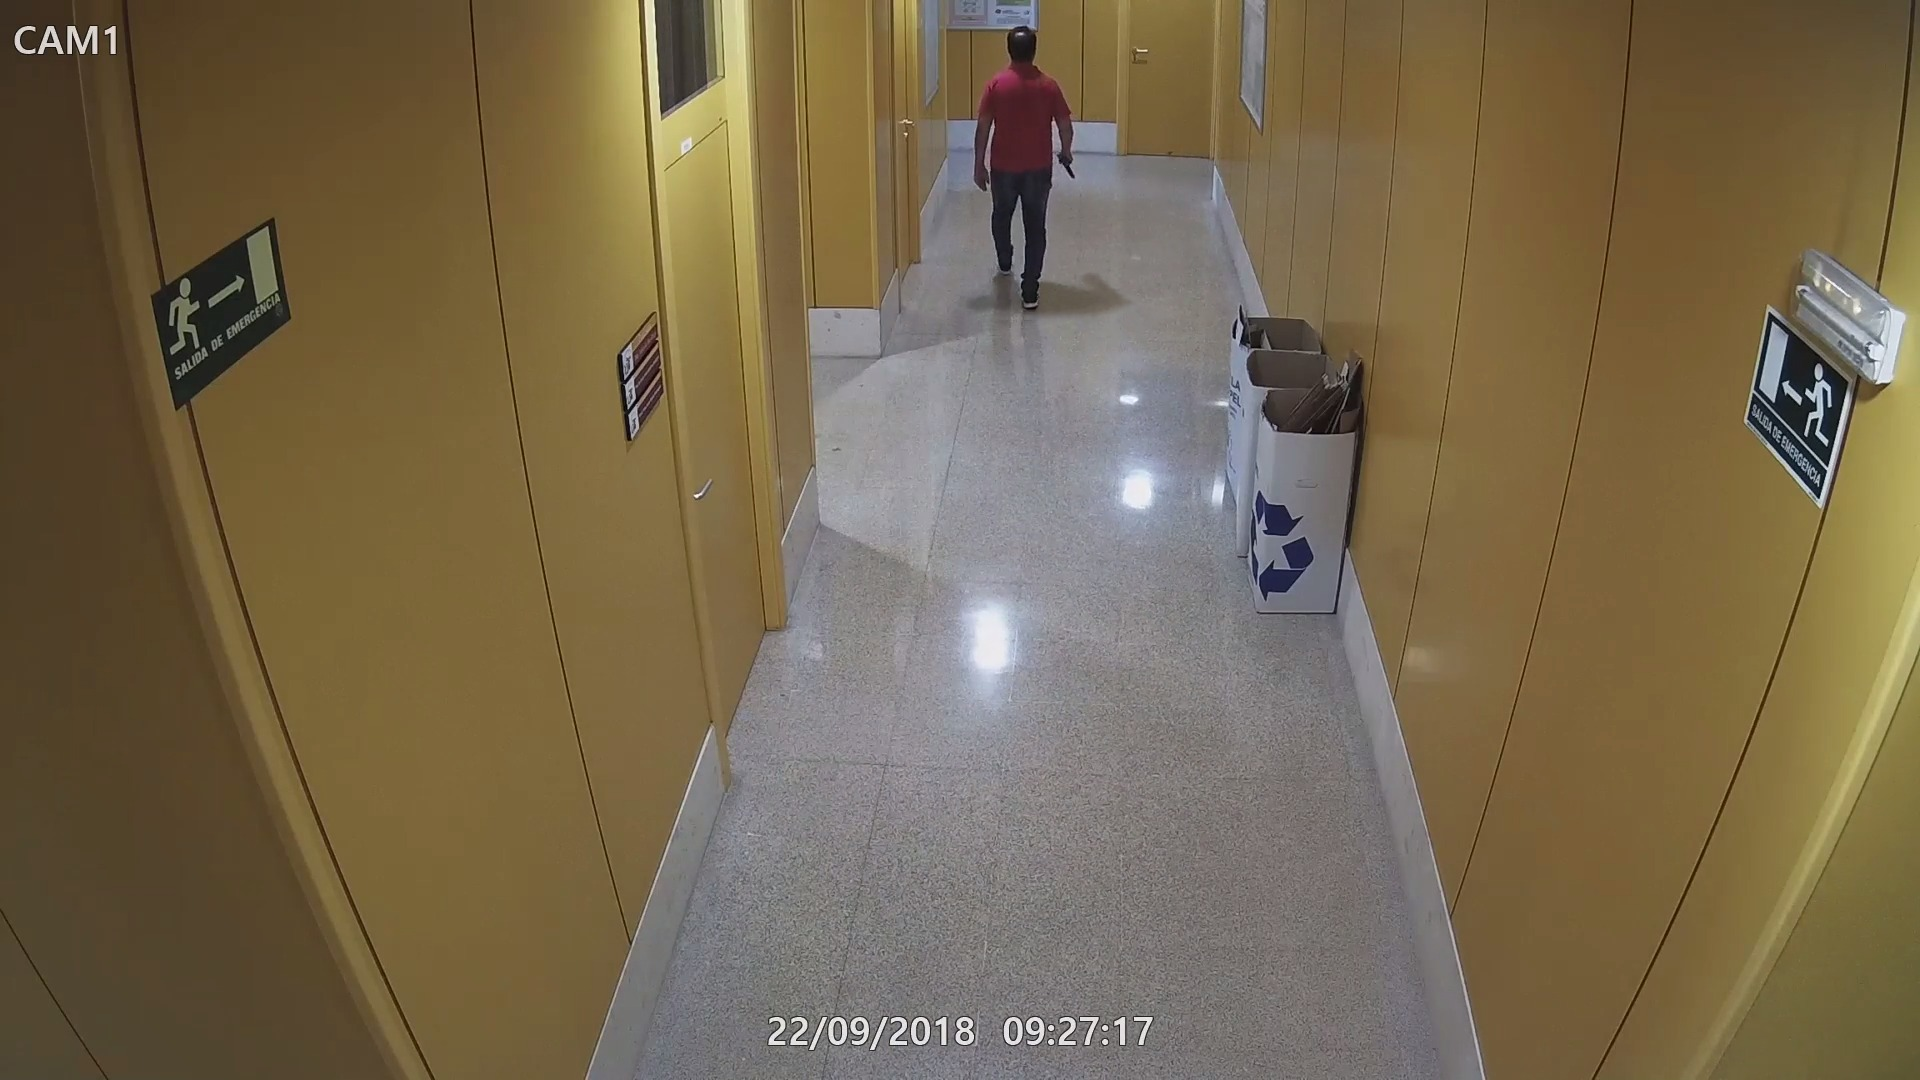Handgun: (1054, 148, 1080, 178)
